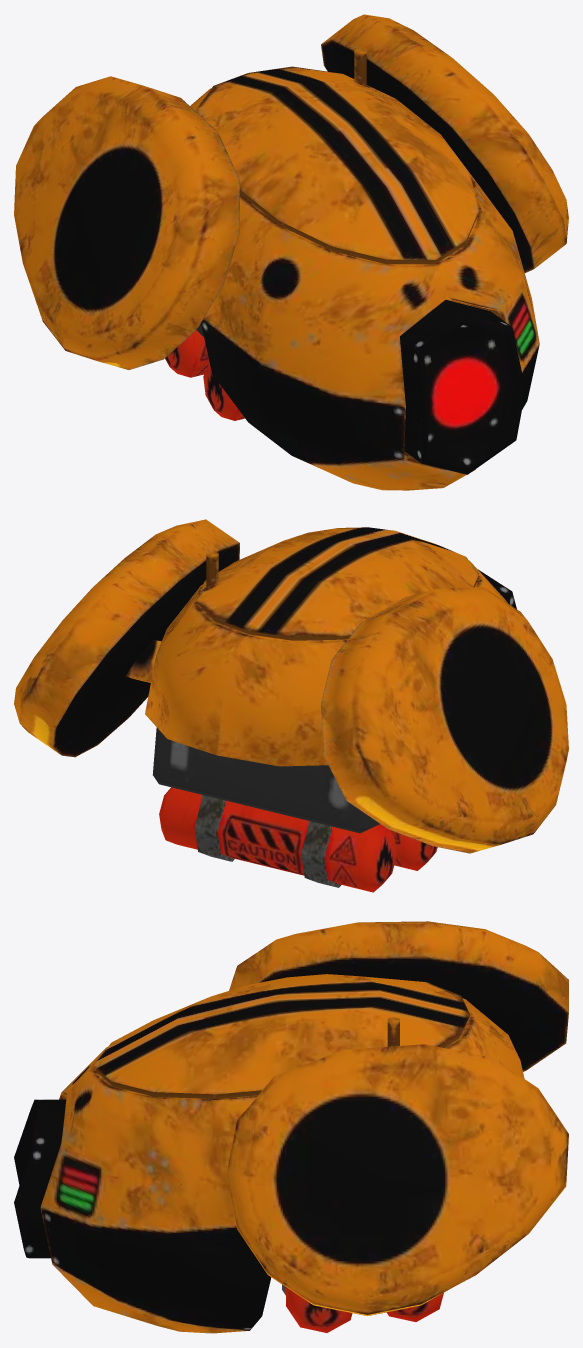
File: PatrollingCore.glb
3 renders of one model, top to bottom at view 1: azimuth 30°, elevation 25°; view 2: azimuth 150°, elevation 25°; view 3: azimuth 270°, elevation 25°, orthographic.
Parts seen in each view (by area): view 1: defaultMaterial; view 2: defaultMaterial; view 3: defaultMaterial.
Boxes of the visible parts, x1,y1,x2,y2 form: defaultMaterial: [14, 14, 568, 490]; defaultMaterial: [14, 519, 568, 892]; defaultMaterial: [14, 921, 568, 1333].
Size of the model in its own units: 2 by 1.32 by 1.98.
Materials: 1 (1 with a texture image).
